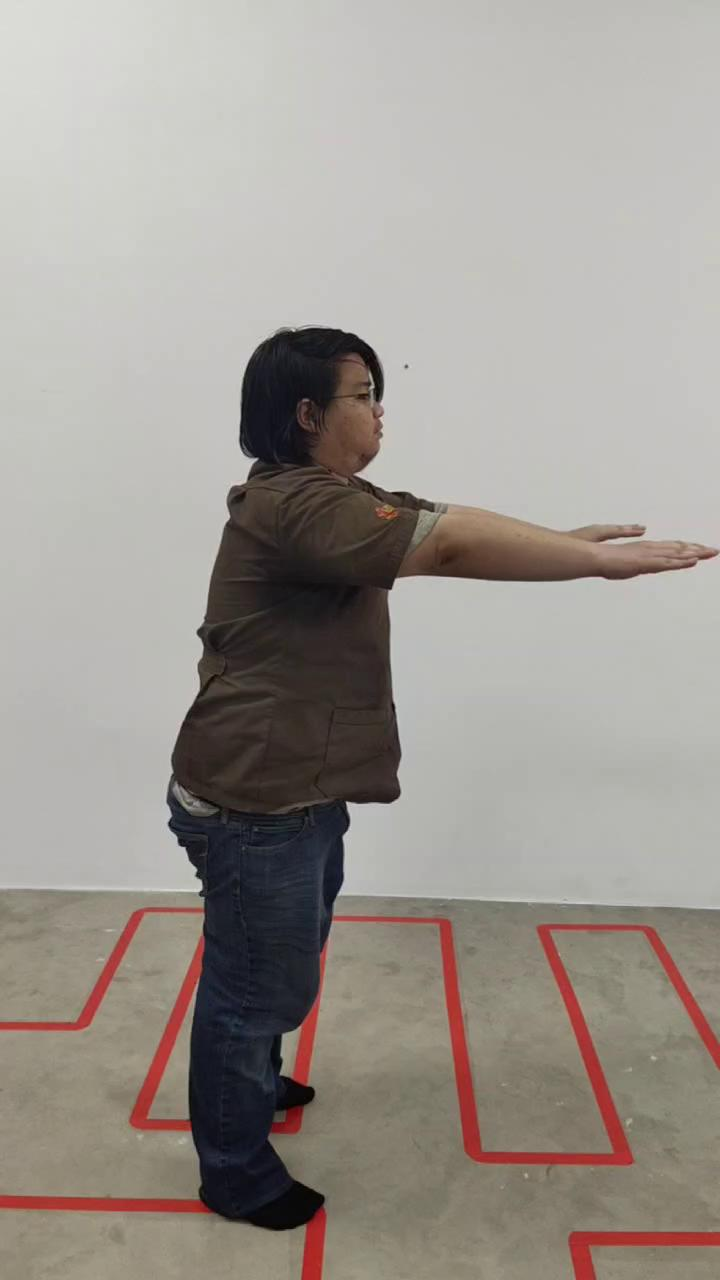squat up: (167, 326, 707, 1232)
